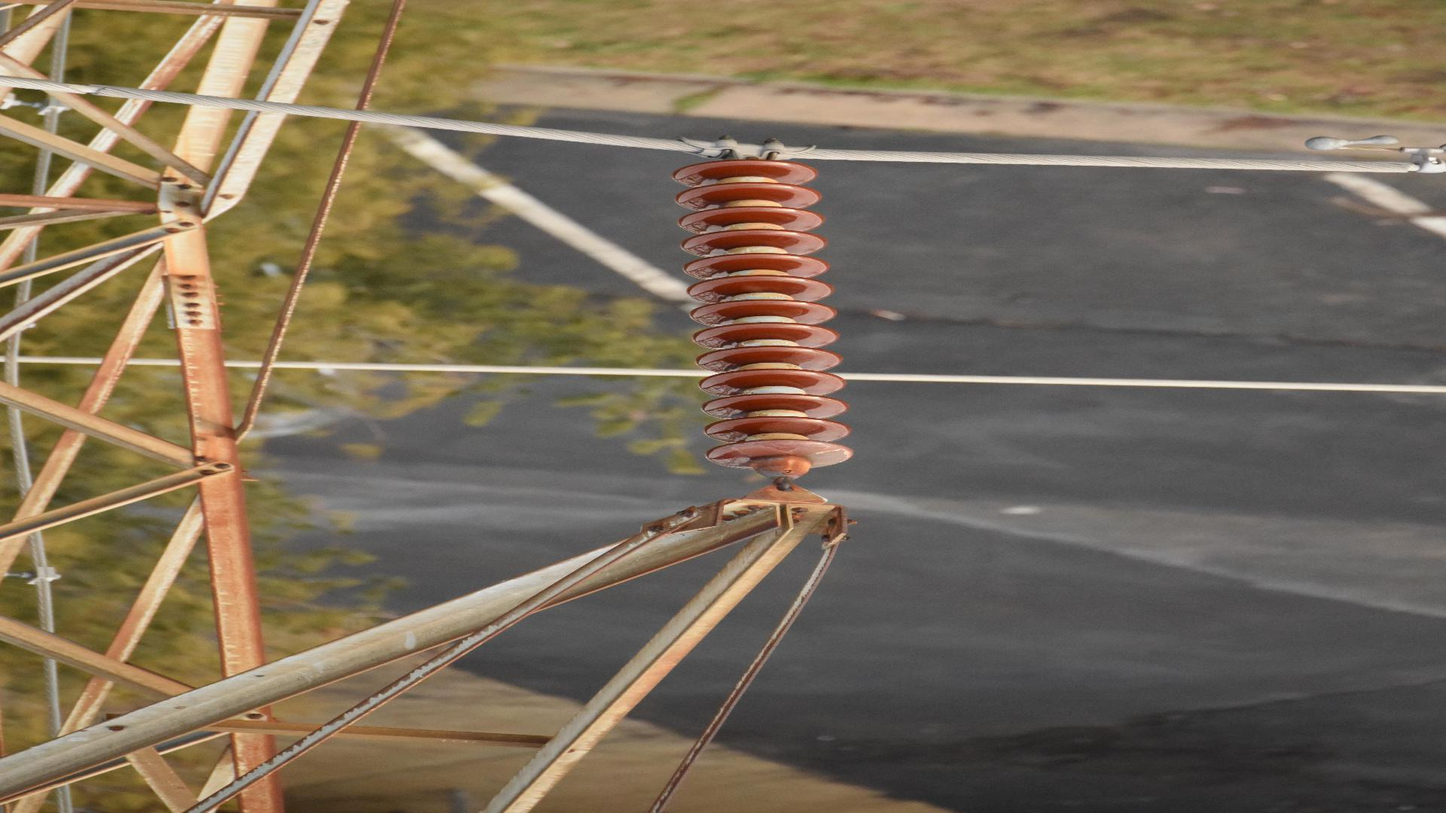insulator: (667, 158, 860, 475)
insulator_flashover: (804, 446, 850, 468)
